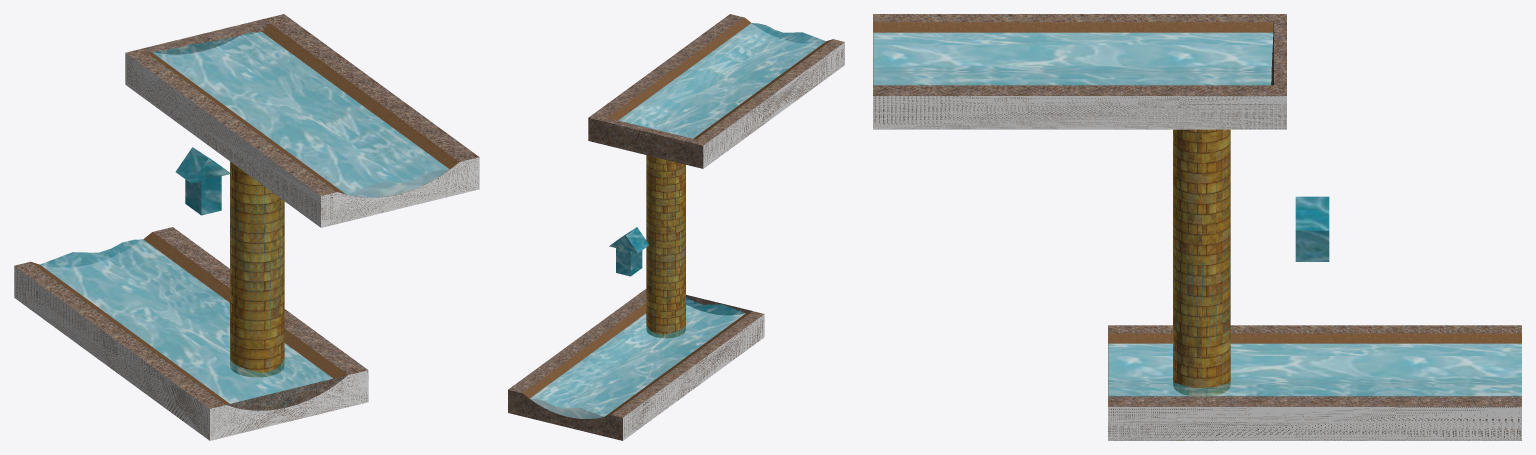
File: Battery.dae
The picture shows the model from 3 angles, left to right: view 1: azimuth 30°, elevation 25°; view 2: azimuth 150°, elevation 25°; view 3: azimuth 270°, elevation 25°; orthographic projection. The views are drawn at different scales.
Parts seen in each view (by area): view 1: SketchUp (×14); view 2: SketchUp (×14); view 3: SketchUp (×13).
Part boxes in pixels (x1,y1,x2,y2): SketchUp (×14): (14,14,479,440); SketchUp (×14): (508,14,844,440); SketchUp (×13): (873,14,1521,440).
Size of the model in its own units: 65.1 by 218 by 128.
